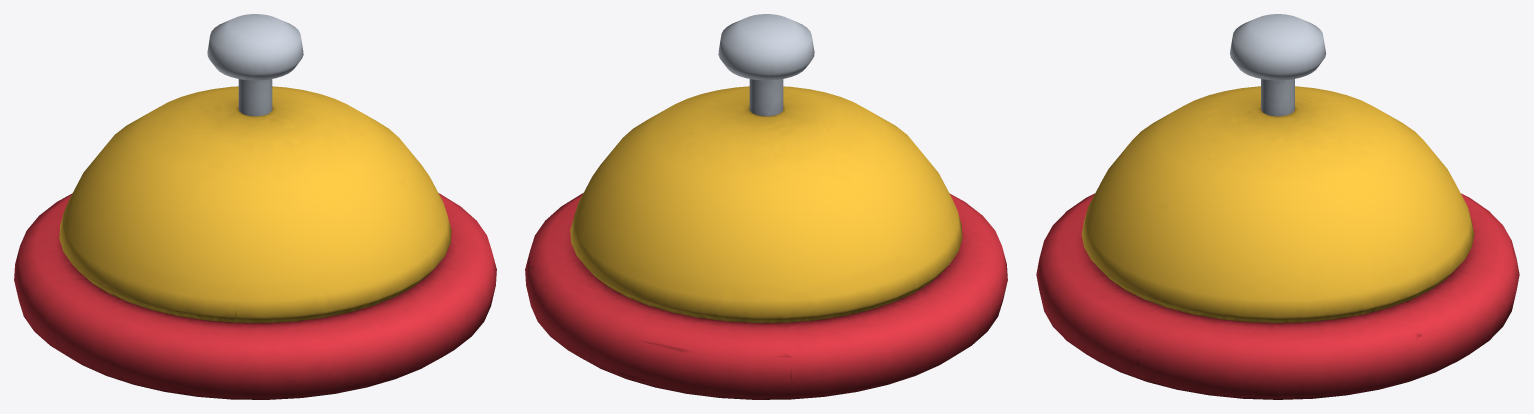
Rendered from service_bell.glb.
3 views of the same model, side by side, from view 1: azimuth 30°, elevation 25°; view 2: azimuth 150°, elevation 25°; view 3: azimuth 270°, elevation 25° (orthographic).
Parts seen in each view (by area): view 1: service_bell; view 2: service_bell; view 3: service_bell.
Boxes of the visible parts, box(x1,y1,x2,y2) form: service_bell: box(14, 14, 496, 399); service_bell: box(525, 14, 1007, 399); service_bell: box(1036, 14, 1519, 399).
Bounding box in the file's own units: 0.1194 × 0.077 × 0.1194.
3 materials, 3 textured.
